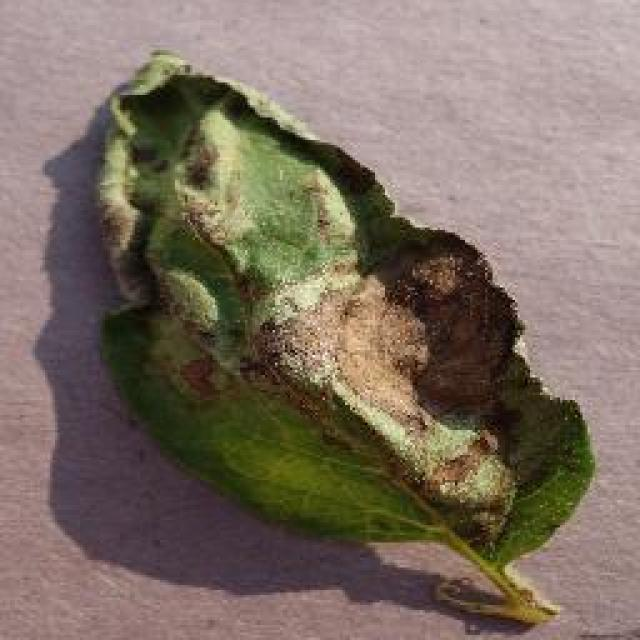Potato: (93, 47, 595, 625)
